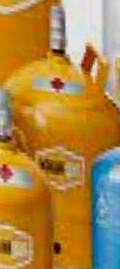cylinder: (1, 1, 120, 269)
